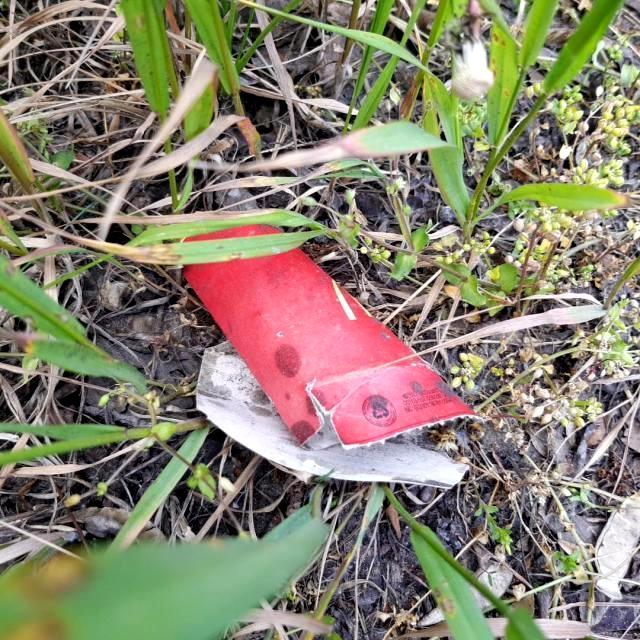Paper: (176, 208, 486, 492)
